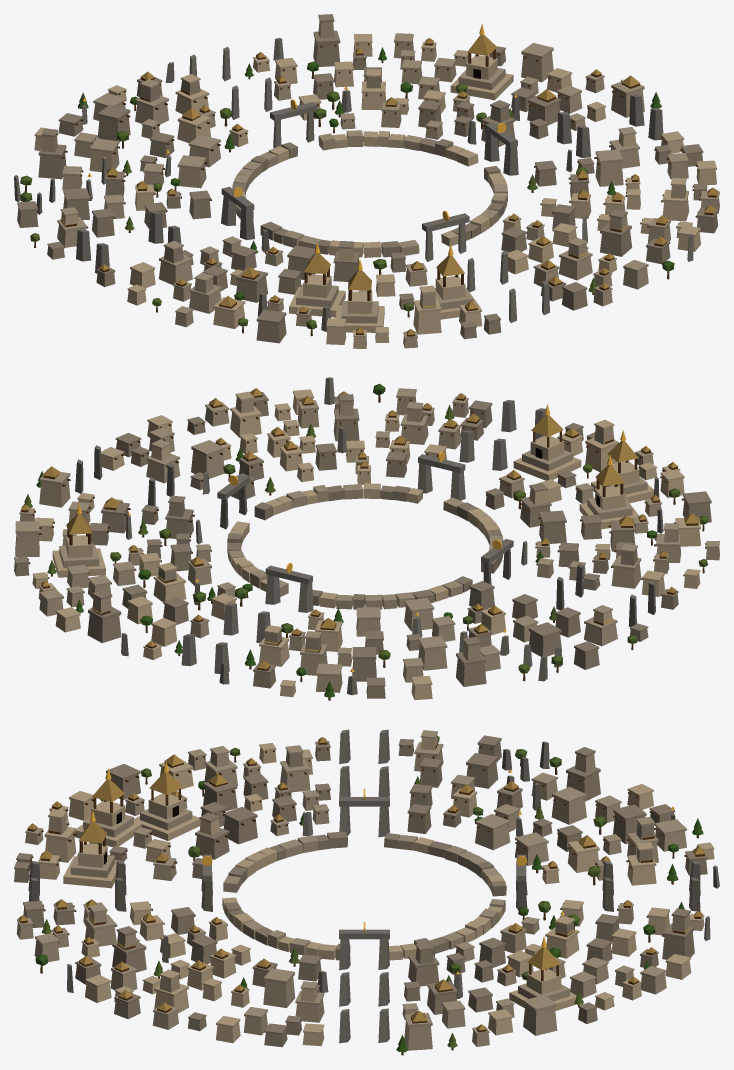
File: sandy_ring_city.glb
3 renders of one model, top to bottom at view 1: azimuth 30°, elevation 25°; view 2: azimuth 150°, elevation 25°; view 3: azimuth 270°, elevation 25°, orthographic. The views are drawn at different scales.
Visible parts, largest first — view 1: stone_ring_city_v2; view 2: stone_ring_city_v2; view 3: stone_ring_city_v2.
Boxes of the visible parts, x1,y1,x2,y2 form: stone_ring_city_v2: (14,14,719,348); stone_ring_city_v2: (14,377,719,700); stone_ring_city_v2: (14,729,719,1055).
Size of the model in its own units: 1.89 by 0.1882 by 1.82.
